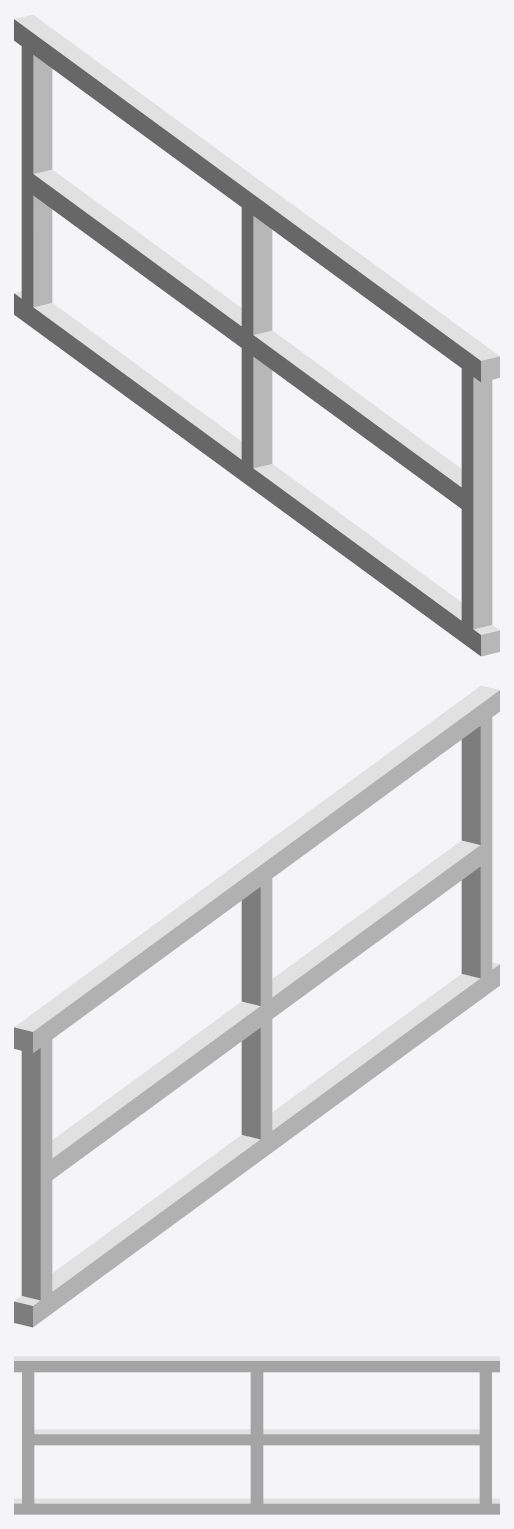
The model's file is Res01_HalfWall_GlassFrame.fbx.
3 views of the same model, one above another, from view 1: azimuth 30°, elevation 25°; view 2: azimuth 150°, elevation 25°; view 3: azimuth 270°, elevation 25° (orthographic). The views are drawn at different scales.
Parts seen in each view (by area): view 1: Res01_HalfWall_GlassFrame; view 2: Res01_HalfWall_GlassFrame; view 3: Res01_HalfWall_GlassFrame.
Boxes of the visible parts, x1,y1,x2,y2 form: Res01_HalfWall_GlassFrame: [14, 14, 499, 656]; Res01_HalfWall_GlassFrame: [14, 685, 499, 1327]; Res01_HalfWall_GlassFrame: [14, 1356, 499, 1514].
Bounding box in the file's own units: 11.71 × 175 × 500.
